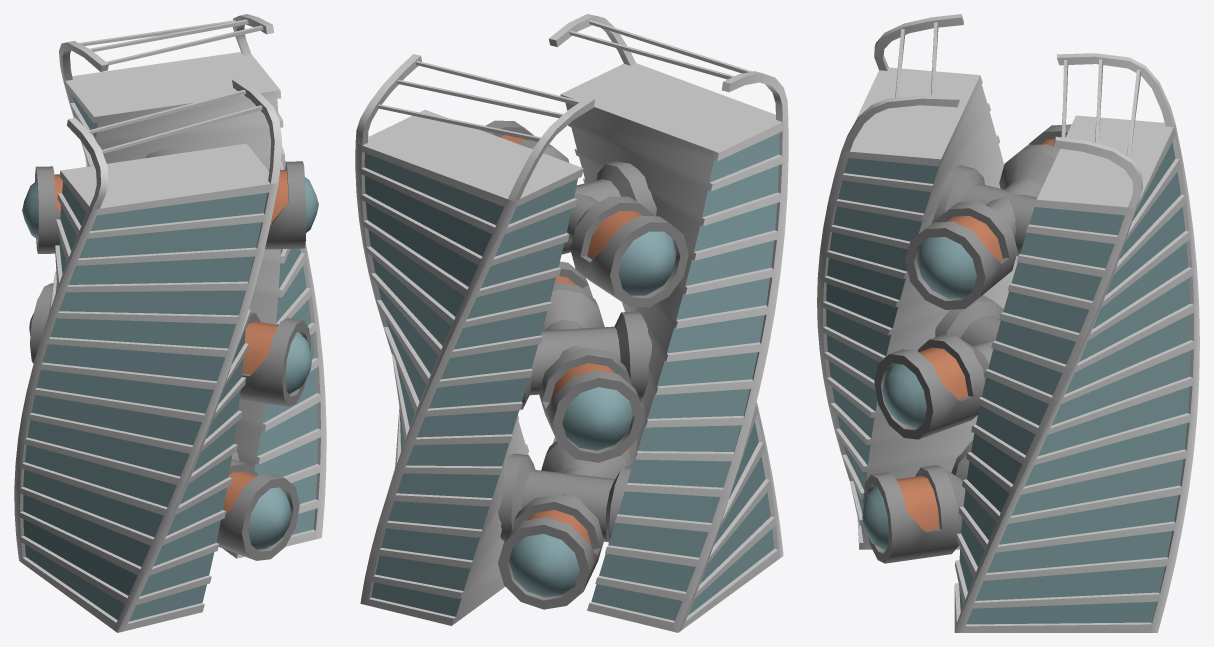
Rendered from Evolution_armed.fbx.
3 views of the same model, side by side, from view 1: azimuth 30°, elevation 25°; view 2: azimuth 150°, elevation 25°; view 3: azimuth 270°, elevation 25° (orthographic). The views are drawn at different scales.
Parts seen in each view (by area): view 1: Evolution_armed; view 2: Evolution_armed; view 3: Evolution_armed.
Boxes of the visible parts, <box> form: Evolution_armed: <box>14,14,326,632</box>; Evolution_armed: <box>355,14,788,632</box>; Evolution_armed: <box>817,14,1199,632</box>.
Bounding box in the file's own units: 80.17 × 114 × 80.17.
